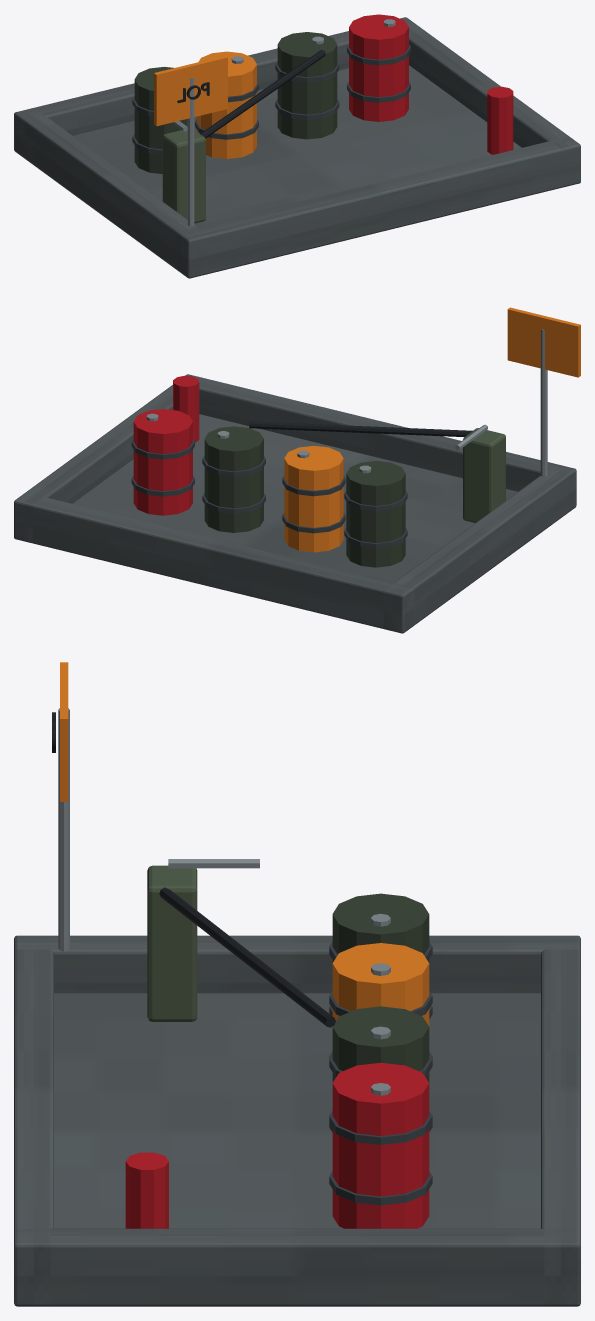
File: fac_polpoint.glb
3 renders of one model, top to bottom at view 1: azimuth 30°, elevation 25°; view 2: azimuth 150°, elevation 25°; view 3: azimuth 270°, elevation 25°, orthographic. The views are drawn at different scales.
Visible parts, largest first — view 1: FAC_POLPOINT; view 2: FAC_POLPOINT; view 3: FAC_POLPOINT.
Boxes of the visible parts, x1,y1,x2,y2 form: FAC_POLPOINT: (14, 14, 580, 278); FAC_POLPOINT: (14, 307, 580, 633); FAC_POLPOINT: (14, 662, 580, 1306).
Bounding box in the file's own units: 4.6 × 2.12 × 3.4.
Materials: 8 (1 with a texture image).
